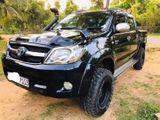car: (1, 7, 150, 117)
